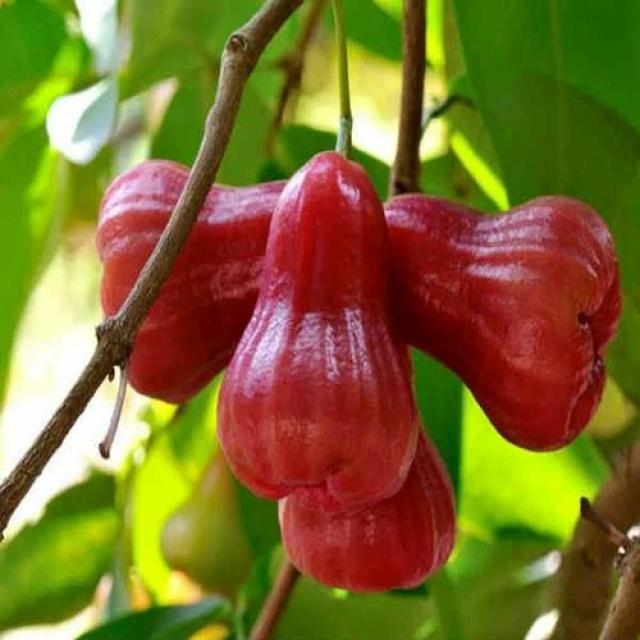Medicinal-Rose Apple: (0, 1, 640, 640)
